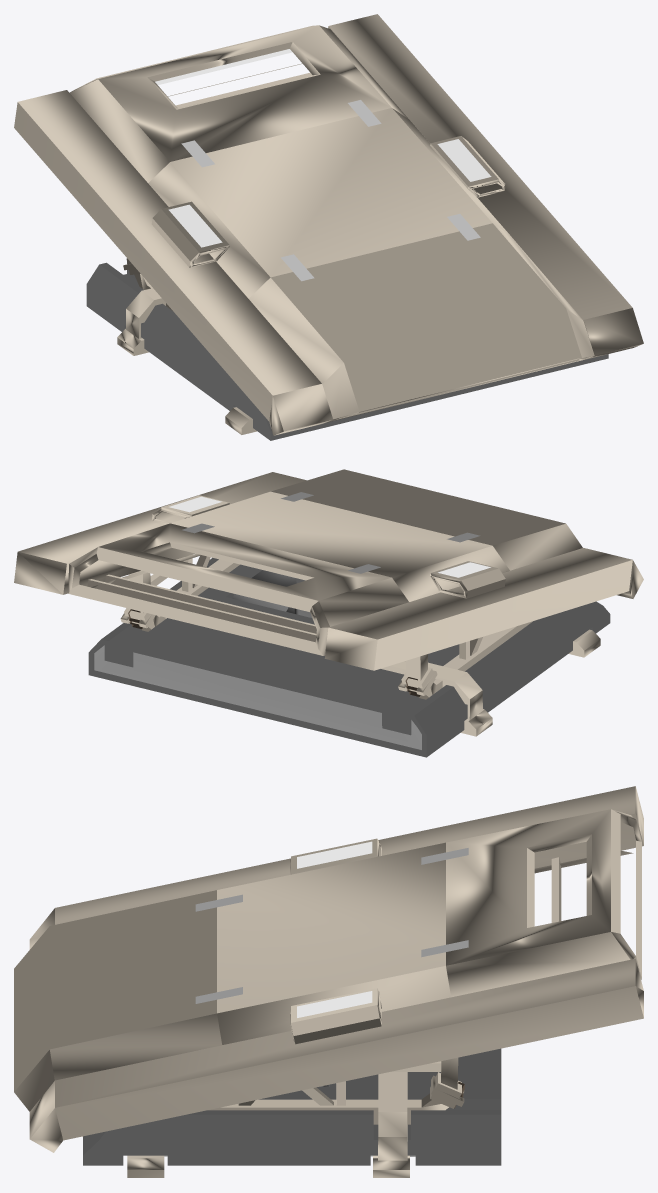
File: barrier_b_04x05x02.glb
The picture shows the model from 3 angles, top to bottom: view 1: azimuth 30°, elevation 25°; view 2: azimuth 150°, elevation 25°; view 3: azimuth 270°, elevation 25°; orthographic projection. The views are drawn at different scales.
Bounding box in the file's own units: 3.99 × 1.97 × 5.32.
